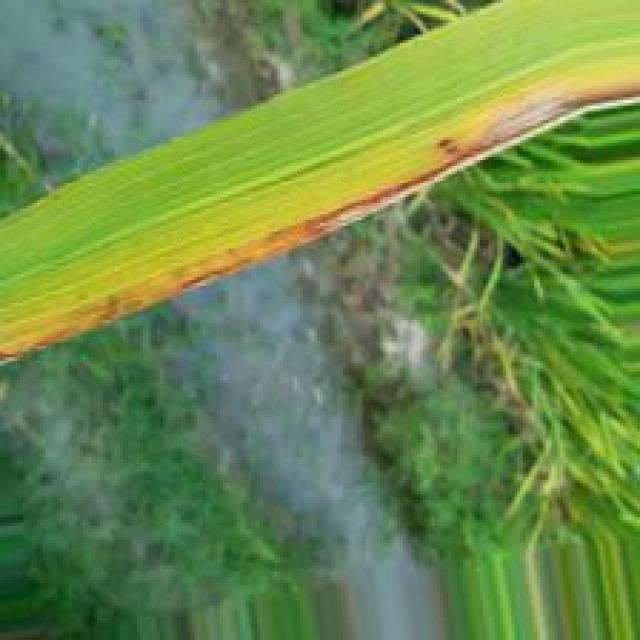Bacterial_Leaf_Blight: (0, 68, 640, 369)
